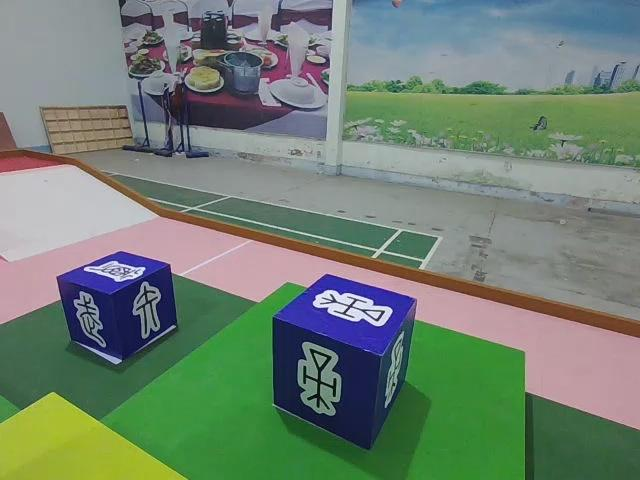R2 Fake Blue: (58, 254, 180, 369)
R2 Real Blue: (273, 274, 418, 452)
